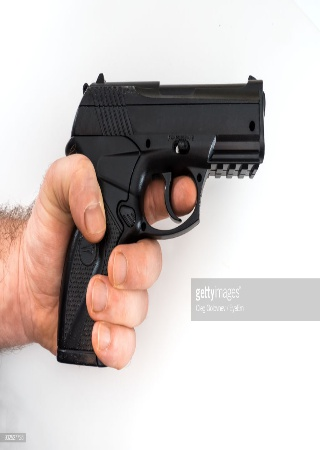handgun: (53, 71, 269, 371)
